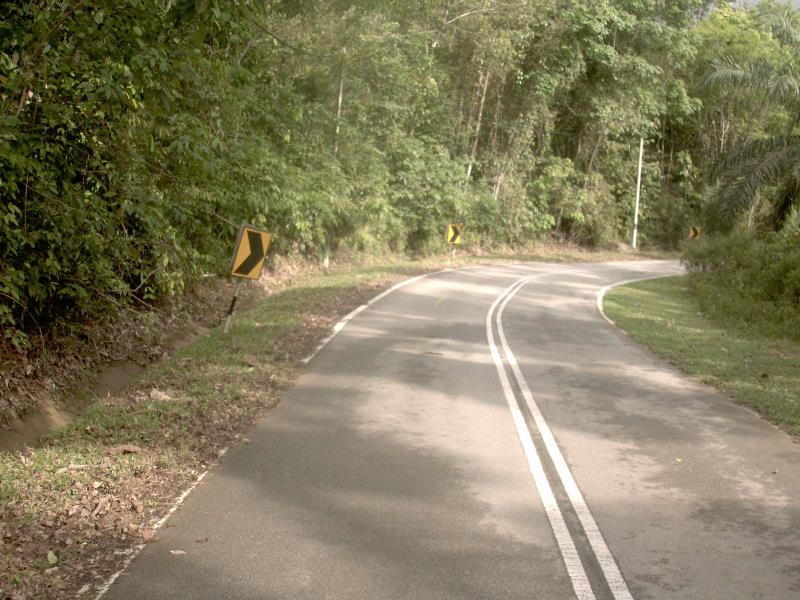traffic_sign: (221, 221, 279, 287)
